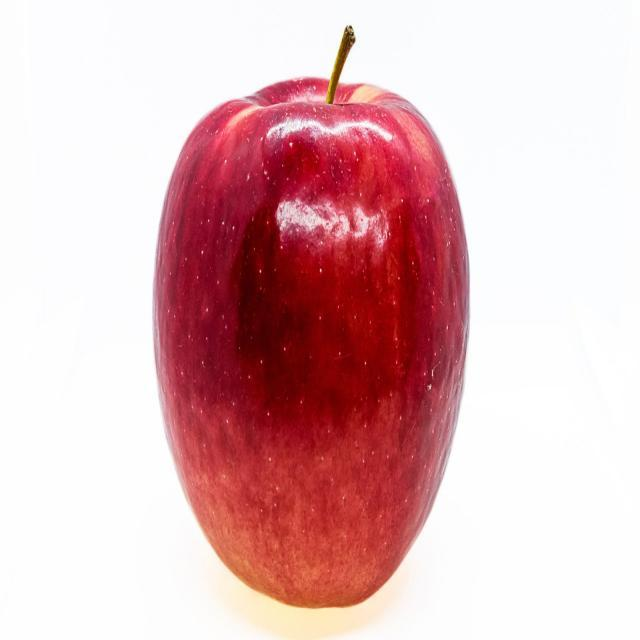Apple: (150, 21, 482, 618)
